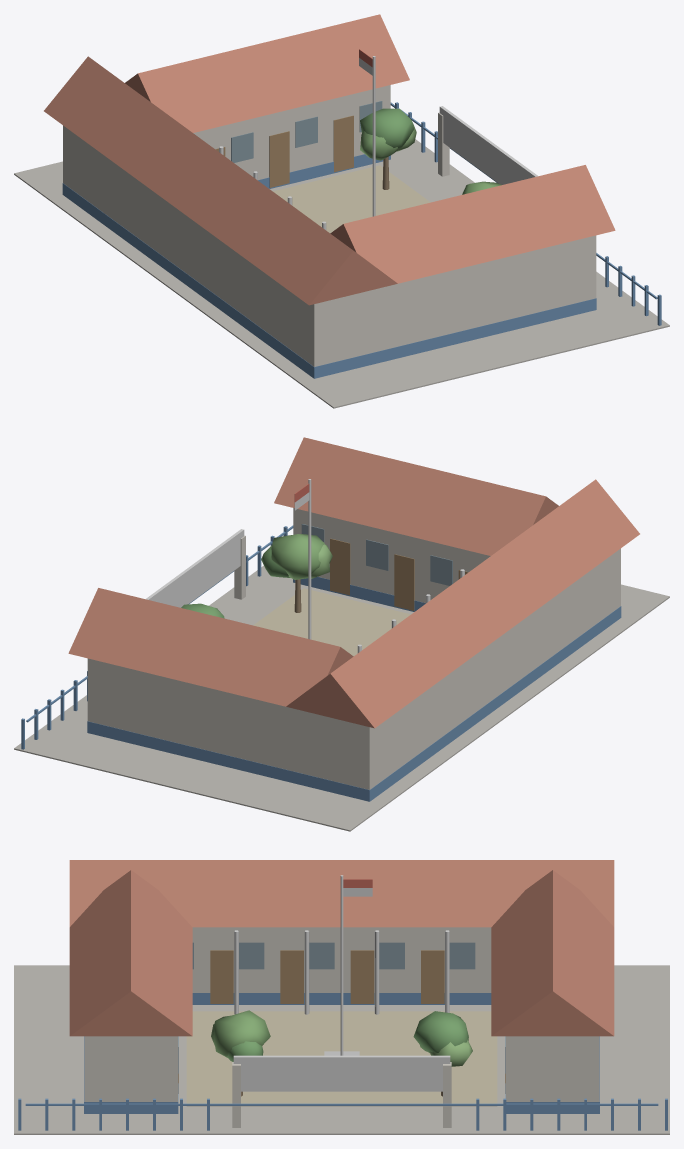
File: lm_sekolah.glb
3 views of the same model, one above another, from view 1: azimuth 30°, elevation 25°; view 2: azimuth 150°, elevation 25°; view 3: azimuth 270°, elevation 25° (orthographic). The views are drawn at different scales.
Visible parts, largest first — view 1: main; view 2: main; view 3: main.
Part boxes in pixels (x1,y1,x2,y2): main: (14,14,669,408); main: (14,437,669,831); main: (14,860,669,1134).
Bounding box in the file's own units: 13.6 × 7.2 × 22.4.
